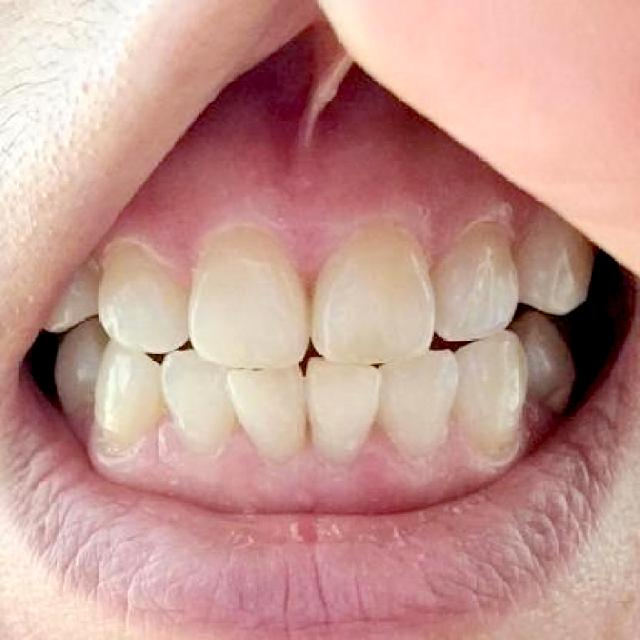Plaque: (532, 376, 580, 420)
